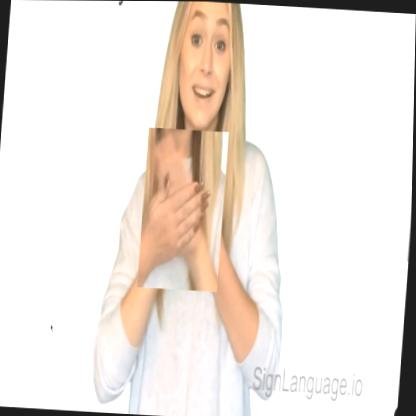NiceToMeetYou: (137, 127, 229, 291)
